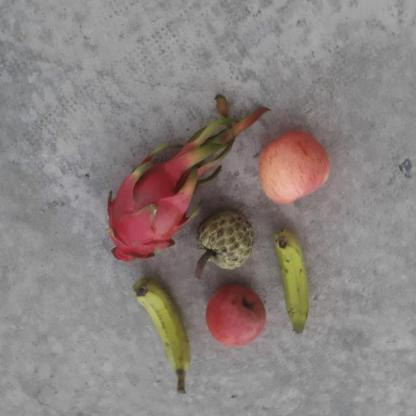annona: (191, 215, 256, 269)
apple: (257, 121, 333, 209), (205, 275, 271, 350)
banana: (272, 224, 320, 332), (134, 278, 186, 373)
pitaya: (102, 160, 196, 262)
